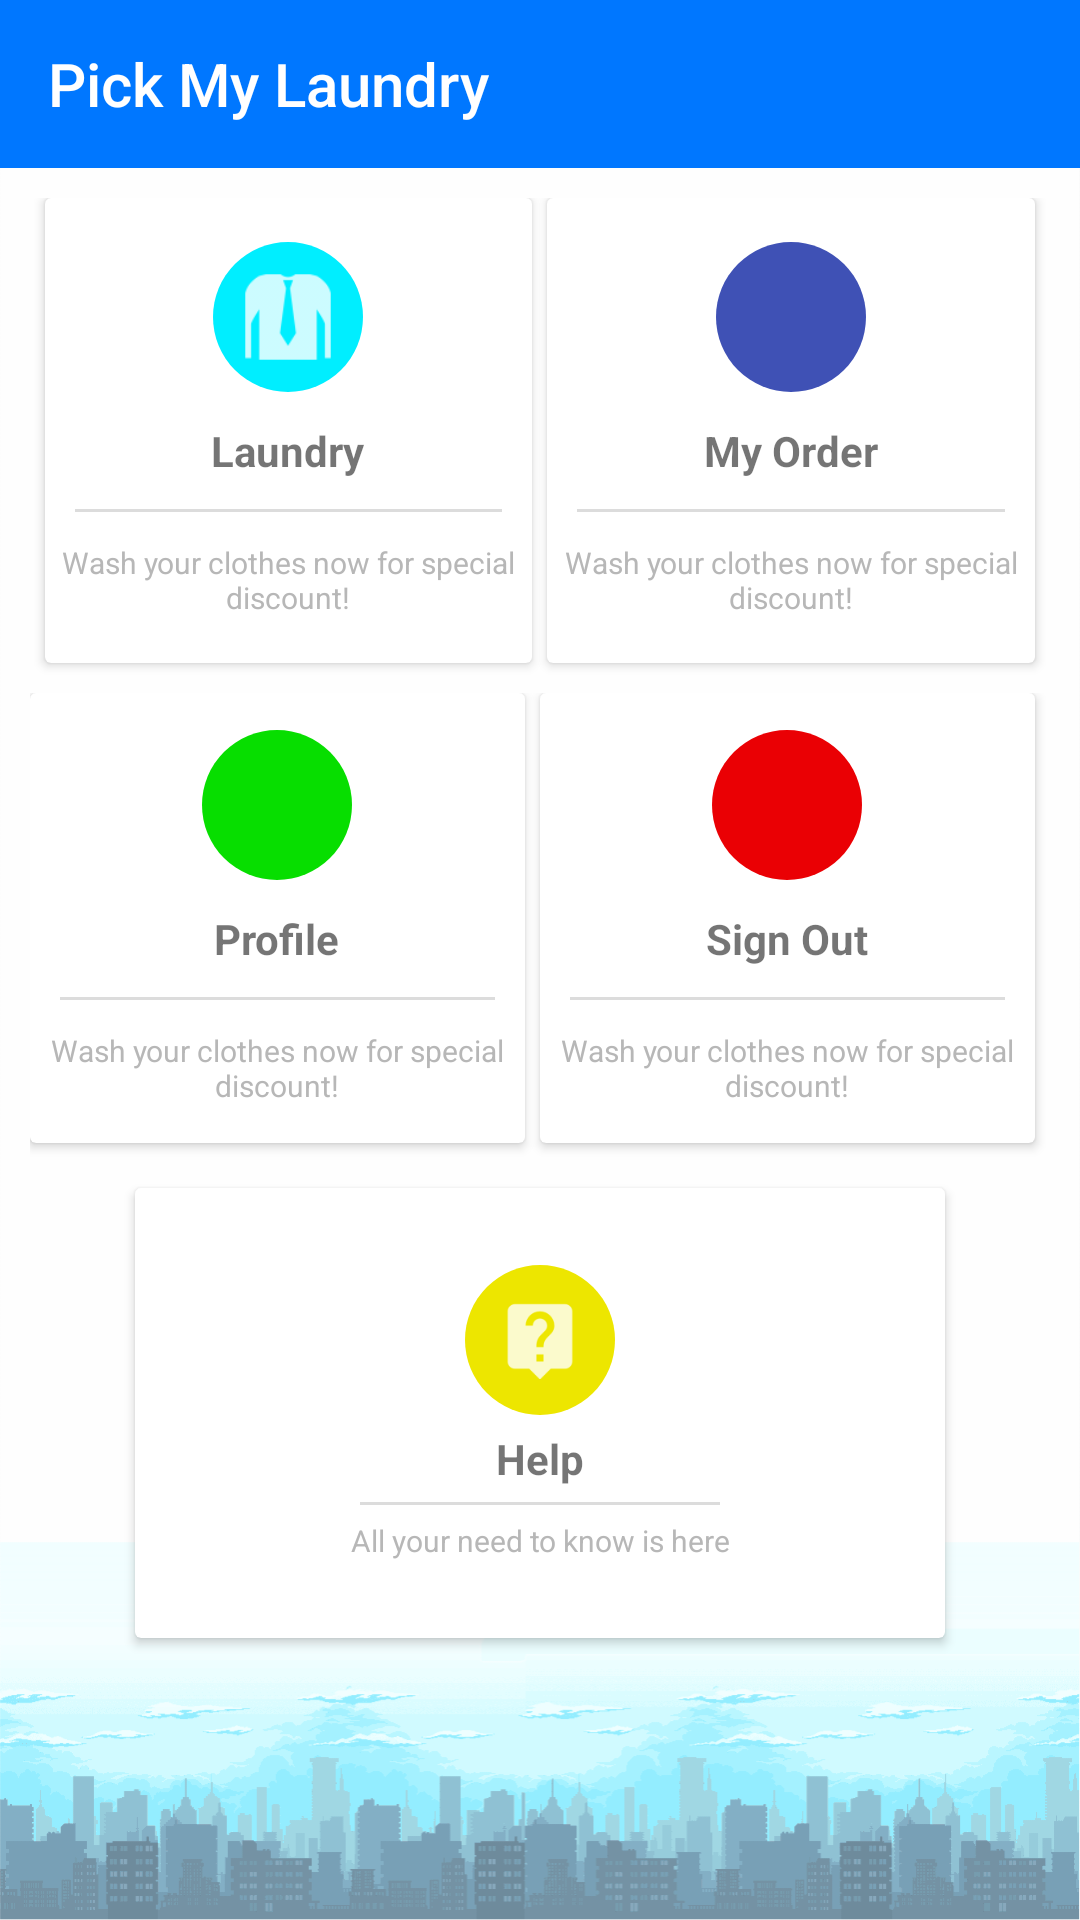

Named icons in this screenshot (1080 x 1920) and their bounding boxes, (left=x1, top=y1, right=x2, bottom=y2):
shirt: (left=213, top=242, right=363, bottom=392)
